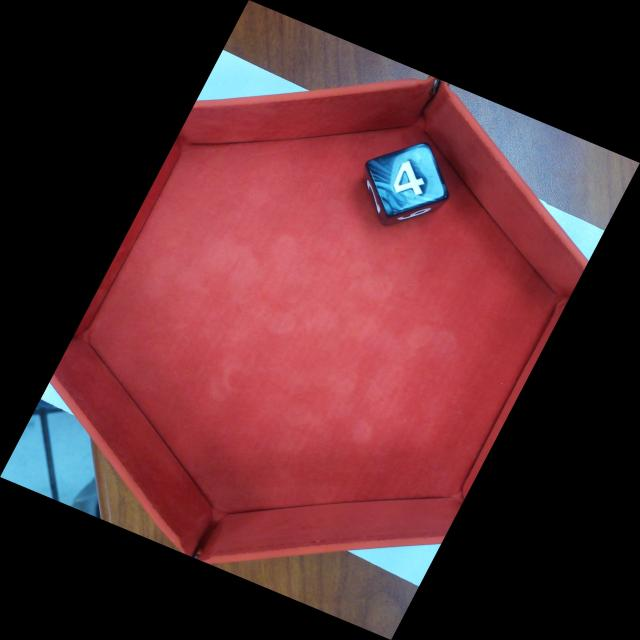dice: (371, 142, 445, 214)
